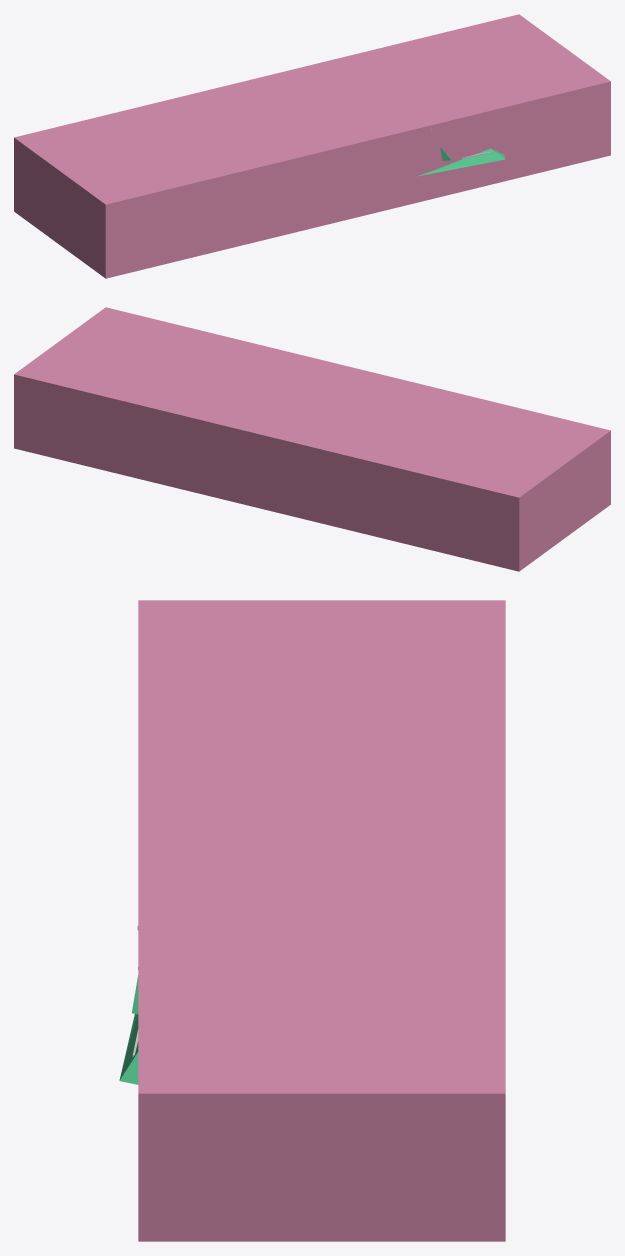
File: ind_rubbish_01_b.dae
3 views of the same model, one above another, from view 1: azimuth 30°, elevation 25°; view 2: azimuth 150°, elevation 25°; view 3: azimuth 270°, elevation 25° (orthographic). The views are drawn at different scales.
Parts seen in each view (by area): view 1: Untitled, Colmesh-1; view 2: Untitled; view 3: Untitled, Colmesh-1.
Part boxes in pixels (x1,y1,x2,y2): Untitled: [14, 14, 610, 278]; Colmesh-1: [418, 147, 505, 176]; Untitled: [14, 307, 610, 571]; Untitled: [138, 600, 505, 1241]; Colmesh-1: [119, 975, 138, 1084].
Size of the model in its own units: 5.58 by 1.85 by 0.7812.
